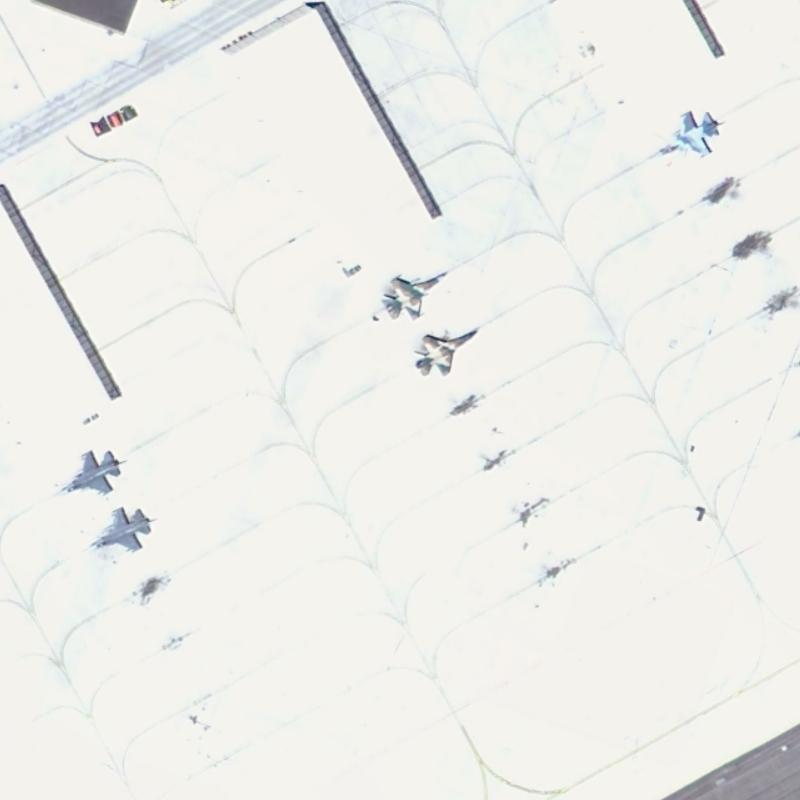A5: (409, 324, 481, 381), (379, 266, 450, 323), (649, 105, 721, 161), (53, 443, 123, 497), (84, 504, 152, 556)
